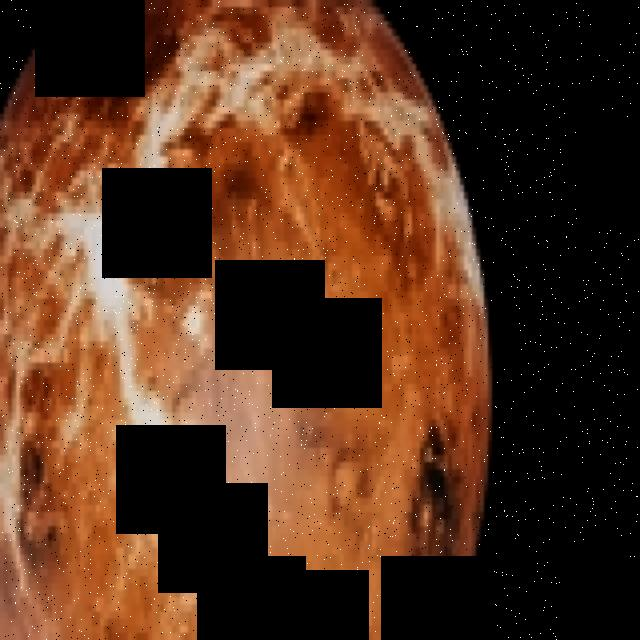Venus: (0, 0, 500, 640)
